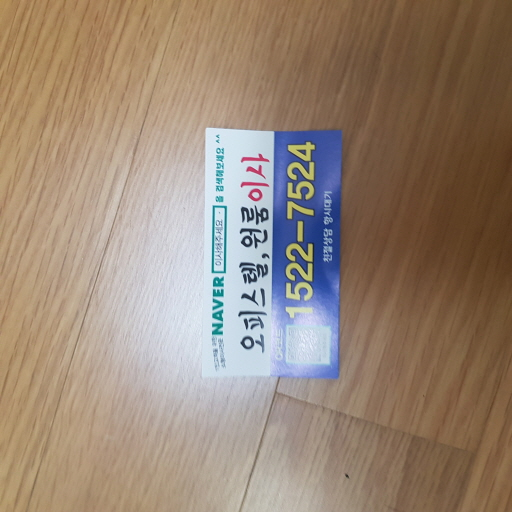Paper_2: (199, 125, 355, 397)
